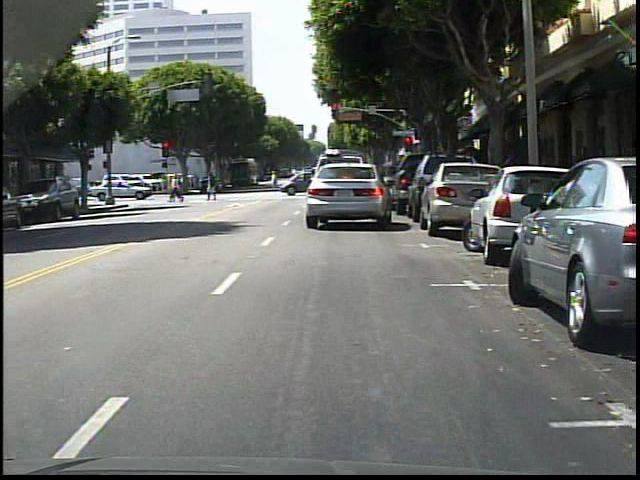person: (206, 172, 220, 201), (170, 174, 184, 202), (271, 170, 279, 191)
